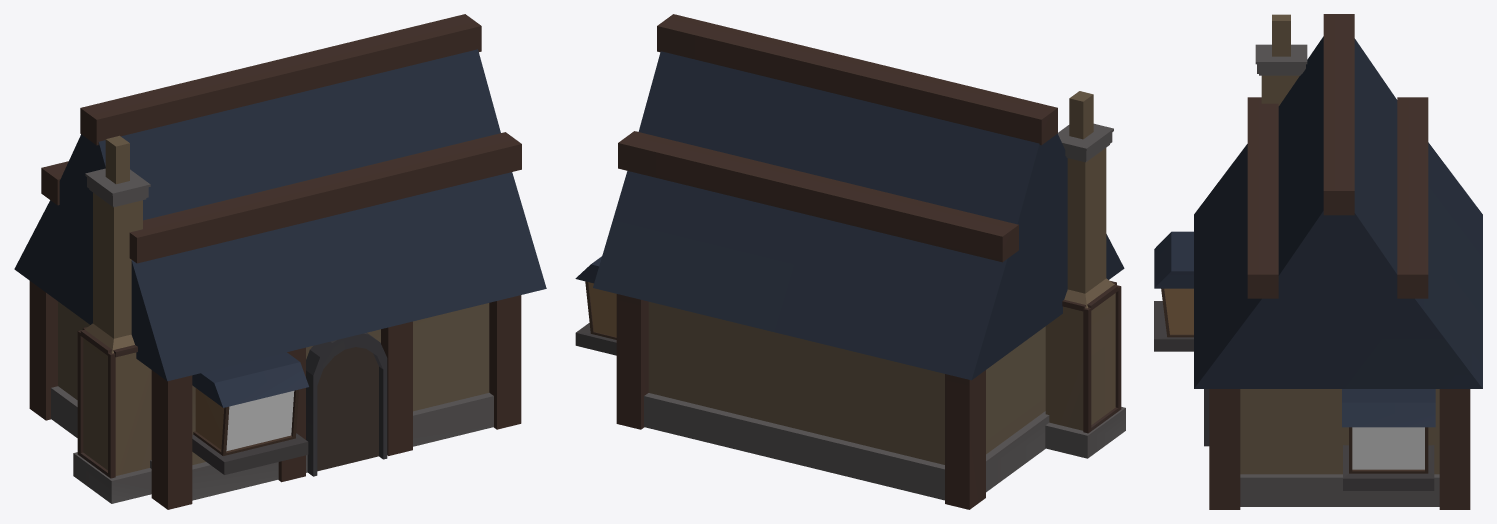
Rendered from CasasAtriet01.fbx.
3 views of the same model, side by side, from view 1: azimuth 30°, elevation 25°; view 2: azimuth 150°, elevation 25°; view 3: azimuth 270°, elevation 25° (orthographic). The views are drawn at different scales.
Visible parts, largest first — view 1: Casa01_LOD0; view 2: Casa01_LOD0; view 3: Casa01_LOD0.
Part boxes in pixels (x1,y1,x2,y2): Casa01_LOD0: (14, 14, 546, 509); Casa01_LOD0: (575, 14, 1125, 509); Casa01_LOD0: (1154, 14, 1482, 509).
Size of what is drawn, in the model's own units: 866 by 640 by 580.
